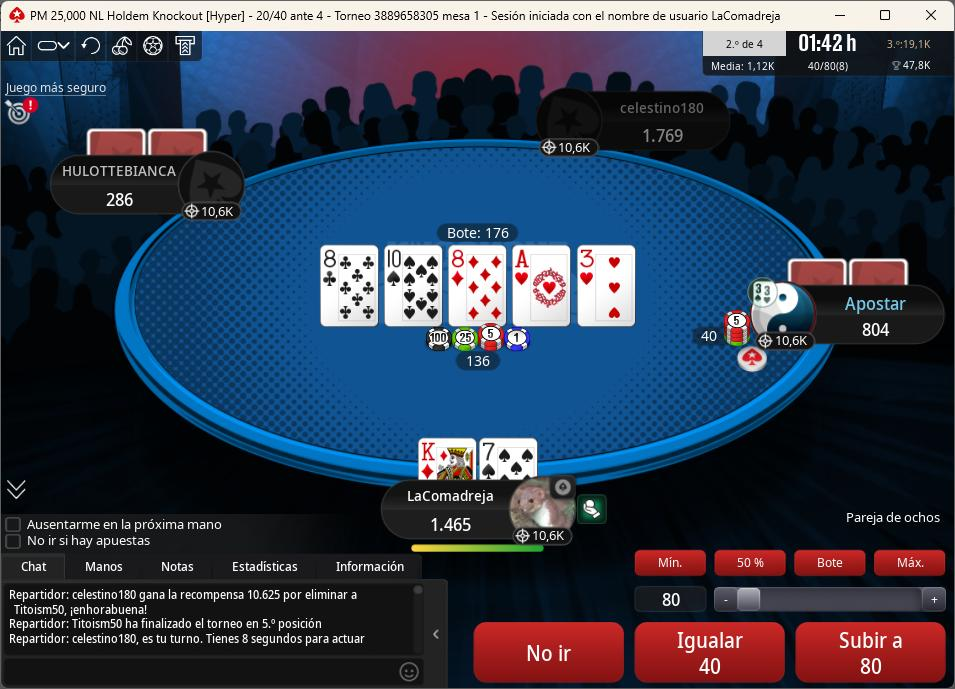ButtonCall: (622, 616, 780, 685)
ButtonFold: (471, 621, 627, 685)
ButtonMaxRaise: (873, 543, 949, 580)
ButtonMinRaise: (634, 549, 711, 581)
ButtonPotRaise: (790, 546, 869, 582)
ButtonRaise: (792, 619, 949, 685)
Dealer: (730, 342, 776, 375)
HiddenCards: (84, 133, 220, 161), (784, 259, 911, 286)
Player: (748, 282, 949, 350), (49, 156, 249, 218), (546, 96, 736, 160)
PlayerBet: (694, 307, 760, 351)
PlayerChips: (633, 125, 692, 142), (856, 322, 901, 342), (100, 193, 144, 210)
Pot: (434, 225, 522, 244)
PrincipalCards: (415, 439, 545, 484)
PrincipalCards1: (414, 439, 477, 482)
PrincipalCards2: (480, 438, 539, 484)
PrincipalPlayer: (382, 477, 585, 552)
PrincipalPlayerChips: (422, 518, 485, 538)
ShowedCards: (319, 244, 640, 329)
ShowedCards1: (319, 244, 381, 329)
ShowedCards2: (383, 245, 444, 328)
ShowedCards3: (447, 246, 508, 327)
ShowedCards4: (512, 245, 572, 329)
ShowedCards5: (576, 244, 636, 328)
SmallBigBlind: (247, 3, 335, 28)
TablePot: (418, 325, 546, 382)
